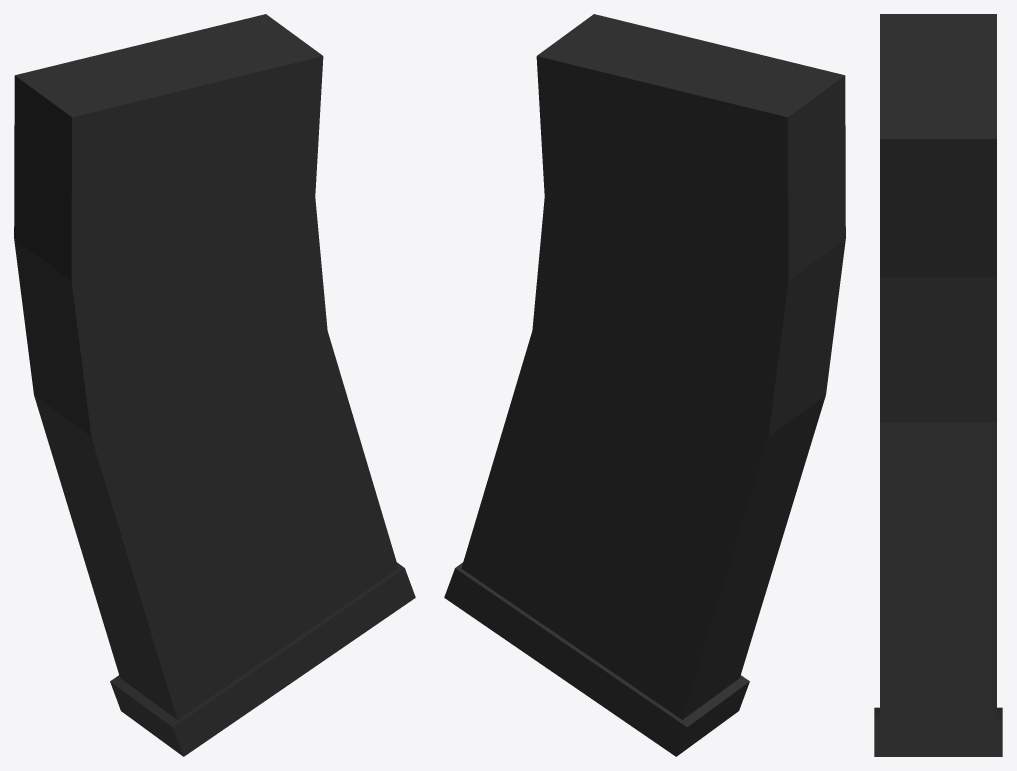
Rendered from AssaultRifle3_01_2.fbx.
3 renders of one model, left to right at view 1: azimuth 30°, elevation 25°; view 2: azimuth 150°, elevation 25°; view 3: azimuth 270°, elevation 25°, orthographic. The views are drawn at different scales.
Parts seen in each view (by area): view 1: AssaultRifle3_01_2; view 2: AssaultRifle3_01_2; view 3: AssaultRifle3_01_2.
Boxes of the visible parts, x1,y1,x2,y2 form: AssaultRifle3_01_2: (14,14,415,756); AssaultRifle3_01_2: (444,14,845,756); AssaultRifle3_01_2: (874,14,1002,756).
Bounding box in the file's own units: 0.1088 × 0.2022 × 0.0346.
